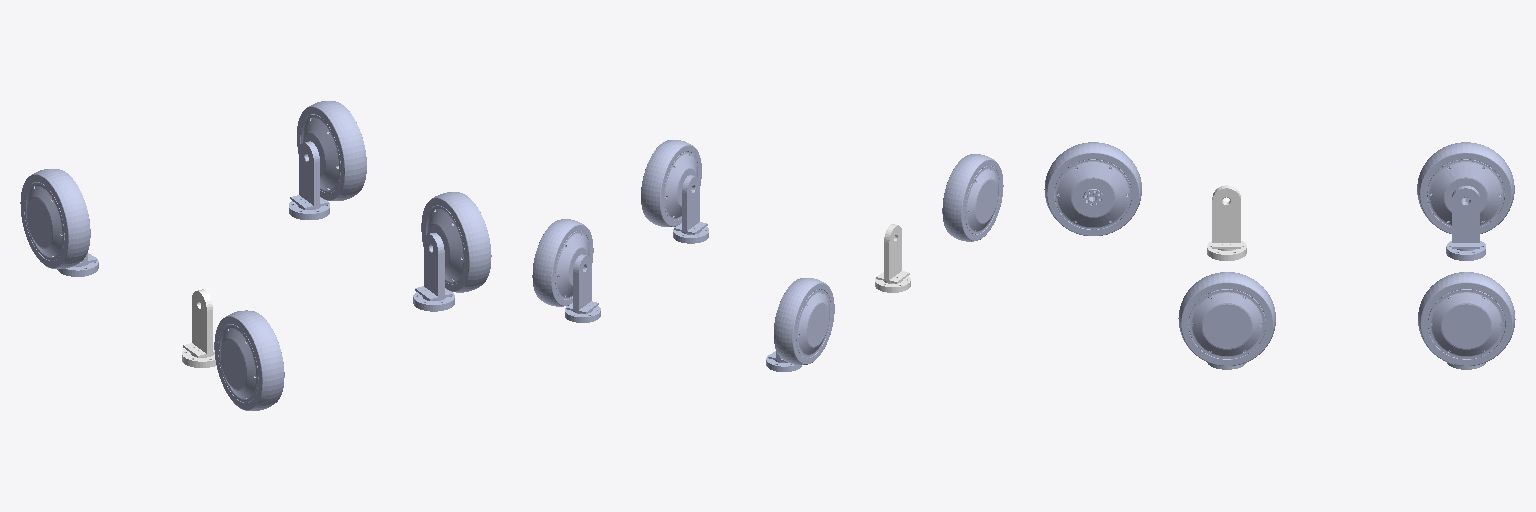
robot.urdf — chassis_4wis:
<?xml version="1.0" encoding="utf-8"?>
<!-- This URDF was automatically created by SolidWorks to URDF Exporter! Originally created by Stephen Brawner (brawner@gmail.com) 
     Commit Version: 1.6.0-4-g7f85cfe  Build Version: 1.6.7995.38578
     For more information, please see http://wiki.ros.org/sw_urdf_exporter -->
<robot
  name="chassis_4wis">
  <link
    name="base_link">
    <inertial>
      <origin
        xyz="1.3602 0.23666 -0.044389"
        rpy="0 0 0" />
      <mass
        value="4.6188" />
      <inertia
        ixx="0.028019"
        ixy="-1.6473E-07"
        ixz="1.5419E-13"
        iyy="0.036984"
        iyz="5.4107E-13"
        izz="0.062335" />
    </inertial>
    <visual>
      <origin
        xyz="0 0 0"
        rpy="0 0 0" />
      <geometry>
        <mesh
          filename="package://chassis_4wis/meshes/base_link.STL" />
      </geometry>
      <material
        name="">
        <color
          rgba="1 1 1 1" />
      </material>
    </visual>
    <collision>
      <origin
        xyz="0 0 0"
        rpy="0 0 0" />
      <geometry>
        <mesh
          filename="package://chassis_4wis/meshes/base_link.STL" />
      </geometry>
    </collision>
  </link>
  <link
    name="front_left_steer_link">
    <inertial>
      <origin
        xyz="-0.026562 -0.021377 -0.0061506"
        rpy="0 0 0" />
      <mass
        value="0.11351" />
      <inertia
        ixx="6.3937E-05"
        ixy="5.9701E-11"
        ixz="-2.6319E-11"
        iyy="4.413E-05"
        iyz="-3.6256E-09"
        izz="7.5175E-05" />
    </inertial>
    <visual>
      <origin
        xyz="0 0 0"
        rpy="0 0 0" />
      <geometry>
        <mesh
          filename="package://chassis_4wis/meshes/front_left_steer_link.STL" />
      </geometry>
      <material
        name="">
        <color
          rgba="1 1 1 1" />
      </material>
    </visual>
    <collision>
      <origin
        xyz="0 0 0"
        rpy="0 0 0" />
      <geometry>
        <mesh
          filename="package://chassis_4wis/meshes/front_left_steer_link.STL" />
      </geometry>
    </collision>
  </link>
  <joint
    name="front_left_steer_joint"
    type="revolute">
    <origin
      xyz="1.1268 0 0.0037725"
      rpy="1.5708 0 -1.5708" />
    <parent
      link="base_link" />
    <child
      link="front_left_steer_link" />
    <axis
      xyz="1 0 0" />
    <limit
      lower="-3.14"
      upper="3.14"
      effort="100"
      velocity="2" />
  </joint>
  <link
    name="front_left_wheel_link">
    <inertial>
      <origin
        xyz="-1.4847 -0.05794 0.10127"
        rpy="0 0 0" />
      <mass
        value="1.1612" />
      <inertia
        ixx="0.0037077"
        ixy="3.1494E-08"
        ixz="-4.026E-13"
        iyy="0.0021437"
        iyz="2.7618E-12"
        izz="0.0021437" />
    </inertial>
    <visual>
      <origin
        xyz="0 0 0"
        rpy="0 0 0" />
      <geometry>
        <mesh
          filename="package://chassis_4wis/meshes/front_left_wheel_link.STL" />
      </geometry>
      <material
        name="">
        <color
          rgba="0.79216 0.81961 0.93333 1" />
      </material>
    </visual>
    <collision>
      <origin
        xyz="0 0 0"
        rpy="0 0 0" />
      <geometry>
        <mesh
          filename="package://chassis_4wis/meshes/front_left_wheel_link.STL" />
      </geometry>
    </collision>
  </link>
  <joint
    name="front_left_wheel_joint"
    type="continuous">
    <origin
      xyz="0.090358 0.04 1.5214"
      rpy="2.6219 -1.5708 0" />
    <parent
      link="front_left_steer_link" />
    <child
      link="front_left_wheel_link" />
    <axis
      xyz="0 0.49661 -0.86797" />
    <limit
      lower="-3.14"
      upper="3.14"
      effort="100"
      velocity="2" />
  </joint>
  <link
    name="front_right_steer_link">
    <inertial>
      <origin
        xyz="-0.024142 -0.012629 -0.028623"
        rpy="0 0 0" />
      <mass
        value="0.11351" />
      <inertia
        ixx="6.6281E-05"
        ixy="-4.5659E-06"
        ixz="1.7089E-09"
        iyy="7.2832E-05"
        iyz="-3.1981E-09"
        izz="4.413E-05" />
    </inertial>
    <visual>
      <origin
        xyz="0 0 0"
        rpy="0 0 0" />
      <geometry>
        <mesh
          filename="package://chassis_4wis/meshes/front_right_steer_link.STL" />
      </geometry>
      <material
        name="">
        <color
          rgba="0.79216 0.81961 0.93333 1" />
      </material>
    </visual>
    <collision>
      <origin
        xyz="0 0 0"
        rpy="0 0 0" />
      <geometry>
        <mesh
          filename="package://chassis_4wis/meshes/front_right_steer_link.STL" />
      </geometry>
    </collision>
  </link>
  <joint
    name="front_right_steer_joint"
    type="revolute">
    <origin
      xyz="1.5832 0 -0.046228"
      rpy="3.1416 0 -1.0965" />
    <parent
      link="base_link" />
    <child
      link="front_right_steer_link" />
    <axis
      xyz="0.88962 0.45669 0" />
    <limit
      lower="-3.14"
      upper="3.14"
      effort="100"
      velocity="2" />
  </joint>
  <link
    name="front_right_wheel_link">
    <inertial>
      <origin
        xyz="-1.4847 0.057942 -0.10127"
        rpy="0 0 0" />
      <mass
        value="1.1612" />
      <inertia
        ixx="0.0037077"
        ixy="3.1494E-08"
        ixz="-4.0259E-13"
        iyy="0.0021437"
        iyz="2.7618E-12"
        izz="0.0021437" />
    </inertial>
    <visual>
      <origin
        xyz="0 0 0"
        rpy="0 0 0" />
      <geometry>
        <mesh
          filename="package://chassis_4wis/meshes/front_right_wheel_link.STL" />
      </geometry>
      <material
        name="">
        <color
          rgba="0.79216 0.81961 0.93333 1" />
      </material>
    </visual>
    <collision>
      <origin
        xyz="0 0 0"
        rpy="0 0 0" />
      <geometry>
        <mesh
          filename="package://chassis_4wis/meshes/front_right_wheel_link.STL" />
      </geometry>
    </collision>
  </link>
  <joint
    name="front_right_wheel_joint"
    type="continuous">
    <origin
      xyz="0.77705 -1.3184 -0.09"
      rpy="-2.0905 0 -1.0965" />
    <parent
      link="front_right_steer_link" />
    <child
      link="front_right_wheel_link" />
    <axis
      xyz="0 0.49661 -0.86797" />
    <limit
      lower="-3.14"
      upper="3.14"
      effort="100"
      velocity="2" />
  </joint>
  <link
    name="rear_left_steer_link">
    <inertial>
      <origin
        xyz="0.041712 0.021178 -0.028623"
        rpy="0 0 0" />
      <mass
        value="0.11351" />
      <inertia
        ixx="6.6281E-05"
        ixy="-4.5659E-06"
        ixz="1.7089E-09"
        iyy="7.2832E-05"
        iyz="-3.1981E-09"
        izz="4.413E-05" />
    </inertial>
    <visual>
      <origin
        xyz="0 0 0"
        rpy="0 0 0" />
      <geometry>
        <mesh
          filename="package://chassis_4wis/meshes/rear_left_steer_link.STL" />
      </geometry>
      <material
        name="">
        <color
          rgba="0.79216 0.81961 0.93333 1" />
      </material>
    </visual>
    <collision>
      <origin
        xyz="0 0 0"
        rpy="0 0 0" />
      <geometry>
        <mesh
          filename="package://chassis_4wis/meshes/rear_left_steer_link.STL" />
      </geometry>
    </collision>
  </link>
  <joint
    name="rear_left_steer_joint"
    type="revolute">
    <origin
      xyz="1.1332 0.39885 -0.046228"
      rpy="-3.1416 0 2.0451" />
    <parent
      link="base_link" />
    <child
      link="rear_left_steer_link" />
    <axis
      xyz="0.88962 0.45669 0" />
    <limit
      lower="-3.14"
      upper="3.14"
      effort="100"
      velocity="2" />
  </joint>
  <link
    name="rear_left_wheel_link">
    <inertial>
      <origin
        xyz="-1.4847 -0.05794 0.10127"
        rpy="0 0 0" />
      <mass
        value="1.1612" />
      <inertia
        ixx="0.0037077"
        ixy="3.1494E-08"
        ixz="-4.026E-13"
        iyy="0.0021437"
        iyz="2.7618E-12"
        izz="0.0021437" />
    </inertial>
    <visual>
      <origin
        xyz="0 0 0"
        rpy="0 0 0" />
      <geometry>
        <mesh
          filename="package://chassis_4wis/meshes/rear_left_wheel_link.STL" />
      </geometry>
      <material
        name="">
        <color
          rgba="0.79216 0.81961 0.93333 1" />
      </material>
    </visual>
    <collision>
      <origin
        xyz="0 0 0"
        rpy="0 0 0" />
      <geometry>
        <mesh
          filename="package://chassis_4wis/meshes/rear_left_wheel_link.STL" />
      </geometry>
    </collision>
  </link>
  <joint
    name="rear_left_wheel_joint"
    type="continuous">
    <origin
      xyz="0.63532 -1.3912 -0.09"
      rpy="-2.0905 0 -1.0965" />
    <parent
      link="rear_left_steer_link" />
    <child
      link="rear_left_wheel_link" />
    <axis
      xyz="0 0.49661 -0.86797" />
    <limit
      lower="-3.14"
      upper="3.14"
      effort="100"
      velocity="2" />
  </joint>
  <link
    name="rear_right_steer_link">
    <inertial>
      <origin
        xyz="-0.042128 -0.021862 -0.028623"
        rpy="0 0 0" />
      <mass
        value="0.11351" />
      <inertia
        ixx="6.6281E-05"
        ixy="-4.5659E-06"
        ixz="1.7089E-09"
        iyy="7.2832E-05"
        iyz="-3.1981E-09"
        izz="4.413E-05" />
    </inertial>
    <visual>
      <origin
        xyz="0 0 0"
        rpy="0 0 0" />
      <geometry>
        <mesh
          filename="package://chassis_4wis/meshes/rear_right_steer_link.STL" />
      </geometry>
      <material
        name="">
        <color
          rgba="0.79216 0.81961 0.93333 1" />
      </material>
    </visual>
    <collision>
      <origin
        xyz="0 0 0"
        rpy="0 0 0" />
      <geometry>
        <mesh
          filename="package://chassis_4wis/meshes/rear_right_steer_link.STL" />
      </geometry>
    </collision>
  </link>
  <joint
    name="rear_right_steer_joint"
    type="revolute">
    <origin
      xyz="1.5832 0.39885 -0.046228"
      rpy="3.1416 0 -1.0965" />
    <parent
      link="base_link" />
    <child
      link="rear_right_steer_link" />
    <axis
      xyz="0.88962 0.45669 0" />
    <limit
      lower="-3.14"
      upper="3.14"
      effort="100"
      velocity="2" />
  </joint>
  <link
    name="rear_right_wheel_link">
    <inertial>
      <origin
        xyz="-1.4847 0.057942 -0.10127"
        rpy="0 0 0" />
      <mass
        value="1.1612" />
      <inertia
        ixx="0.0037077"
        ixy="3.1494E-08"
        ixz="-4.0259E-13"
        iyy="0.0021437"
        iyz="2.7618E-12"
        izz="0.0021437" />
    </inertial>
    <visual>
      <origin
        xyz="0 0 0"
        rpy="0 0 0" />
      <geometry>
        <mesh
          filename="package://chassis_4wis/meshes/rear_right_wheel_link.STL" />
      </geometry>
      <material
        name="">
        <color
          rgba="0.79216 0.81961 0.93333 1" />
      </material>
    </visual>
    <collision>
      <origin
        xyz="0 0 0"
        rpy="0 0 0" />
      <geometry>
        <mesh
          filename="package://chassis_4wis/meshes/rear_right_wheel_link.STL" />
      </geometry>
    </collision>
  </link>
  <joint
    name="rear_right_wheel_joint"
    type="continuous">
    <origin
      xyz="0.75907 -1.3276 -0.09"
      rpy="-2.0905 0 -1.0965" />
    <parent
      link="rear_right_steer_link" />
    <child
      link="rear_right_wheel_link" />
    <axis
      xyz="0 0.49661 -0.86797" />
    <limit
      lower="-3.14"
      upper="3.14"
      effort="100"
      velocity="2" />
  </joint>
</robot>

--- Render facts (derived) ---
3 views of the same robot in one strip: view 1: azimuth 30°, elevation 25°; view 2: azimuth 150°, elevation 25°; view 3: azimuth 270°, elevation 25° (orthographic).
Robot: chassis_4wis — 9 links, 8 joints (4 revolute, 4 continuous); root link base_link; default pose: all joints at 0.
Links seen in each view (by area): view 1: front_left_wheel_link, rear_left_wheel_link, rear_right_wheel_link, front_right_wheel_link, front_right_steer_link, rear_right_steer_link, front_left_steer_link; view 2: front_left_wheel_link, rear_left_wheel_link, front_right_wheel_link, rear_right_wheel_link, rear_right_steer_link, front_left_steer_link, front_right_steer_link; view 3: front_right_wheel_link, rear_right_wheel_link, front_left_wheel_link, rear_left_wheel_link, front_left_steer_link, rear_left_steer_link.
Boxes of the visible links, x1,y1,x2,y2 form: front_left_wheel_link: (214,310,284,410); rear_left_wheel_link: (20,169,90,268); rear_right_wheel_link: (297,101,366,200); front_right_wheel_link: (421,192,491,292); front_right_steer_link: (413,233,454,311); rear_right_steer_link: (289,141,329,219); front_left_steer_link: (182,289,216,367); front_left_wheel_link: (942,154,1003,241); rear_left_wheel_link: (774,278,834,364); front_right_wheel_link: (641,140,701,226); rear_right_wheel_link: (532,219,593,306); rear_right_steer_link: (565,254,600,322); front_left_steer_link: (875,224,910,292); front_right_steer_link: (673,175,708,243); front_right_wheel_link: (1178,272,1275,365); rear_right_wheel_link: (1418,272,1515,365); front_left_wheel_link: (1044,142,1141,235); rear_left_wheel_link: (1417,142,1514,233); front_left_steer_link: (1207,185,1246,260); rear_left_steer_link: (1446,186,1485,260).
Bounding box of the posed robot: 0.6 × 0.8246 × 0.1877 m (x, y, z).
8 mesh visuals loaded from 9 distinct referenced files (8 binary STL); not drawn: 1 (reference not matched to a file when rendering).
